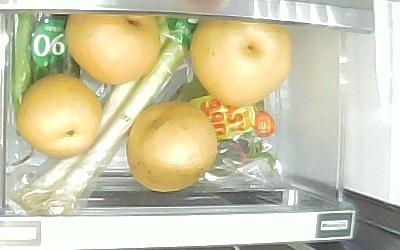pear: (189, 19, 293, 106), (126, 101, 219, 192), (16, 75, 103, 158), (65, 12, 162, 85)
